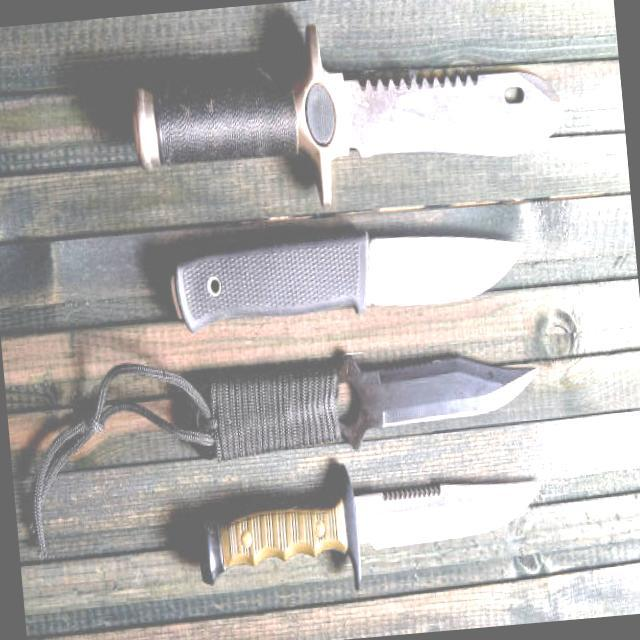Knife: (95, 0, 575, 232), (154, 306, 550, 474), (164, 442, 560, 600), (152, 188, 534, 339)
